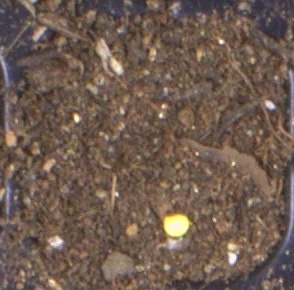chilli seed: (163, 214, 189, 237)
